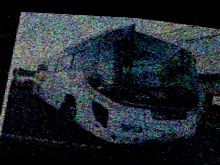bus: (20, 12, 216, 156)
